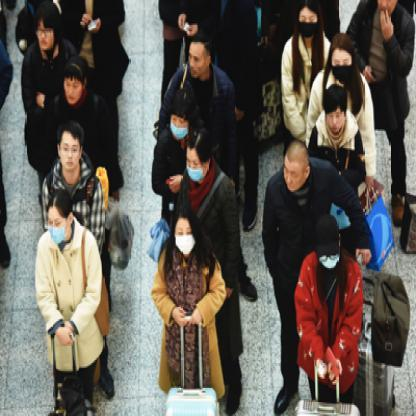with_mask: (174, 223, 196, 255), (46, 214, 67, 243), (168, 112, 189, 140), (185, 153, 205, 181), (331, 55, 352, 81), (299, 12, 317, 39), (319, 251, 340, 268)
without_mask: (58, 139, 80, 171), (64, 75, 84, 103), (283, 162, 301, 192), (187, 49, 205, 77), (36, 22, 53, 50), (327, 109, 344, 131)
